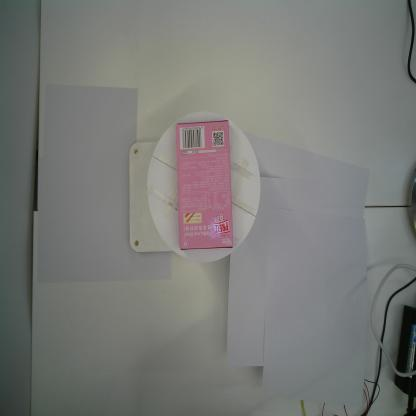Dessert: (176, 120, 233, 250)
